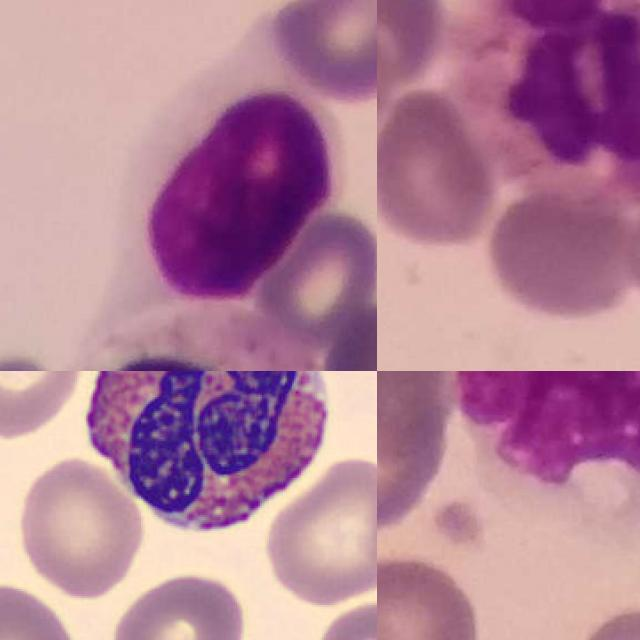Eosinophil: (71, 371, 343, 546)
Lymphocyte: (135, 69, 347, 317)
Monocyte: (444, 371, 640, 505)
Neutrophil: (443, 0, 640, 204), (49, 300, 321, 371)
RBC: (13, 453, 146, 600), (260, 453, 377, 606), (103, 566, 251, 640), (0, 371, 92, 439), (0, 578, 82, 640)
